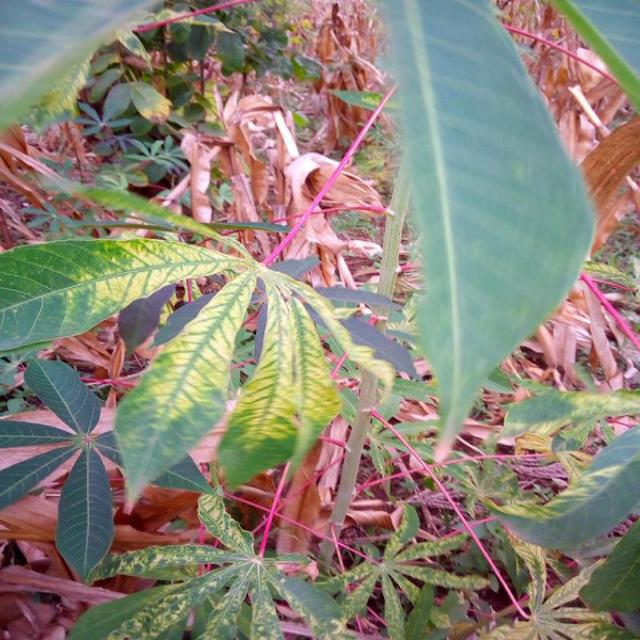cassava leaf: (369, 0, 596, 463), (112, 266, 258, 507), (0, 235, 246, 354), (215, 270, 342, 489), (482, 422, 638, 550)
